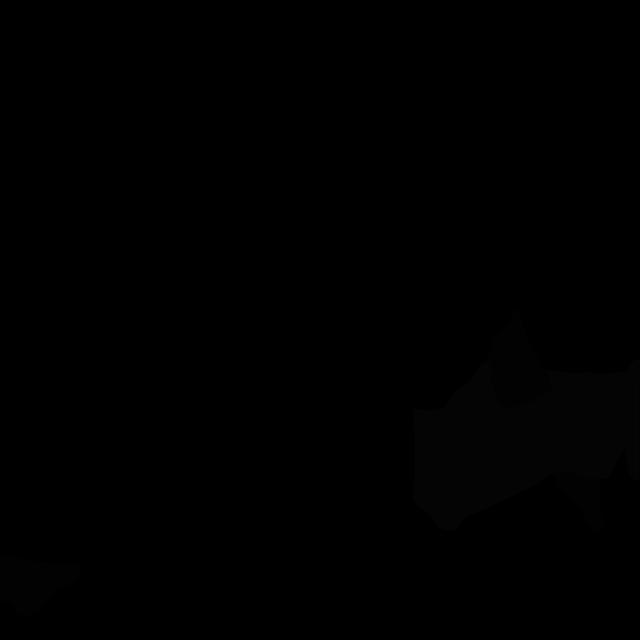cardboard: (482, 307, 552, 409), (0, 556, 83, 617), (552, 471, 607, 534)
soft_plastic: (412, 359, 640, 531)
